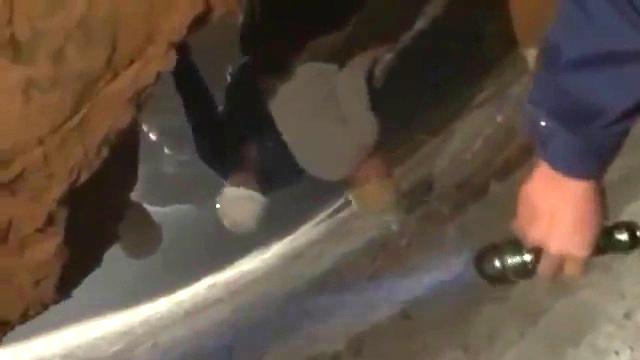helmet: (215, 166, 270, 234), (344, 153, 398, 216)
